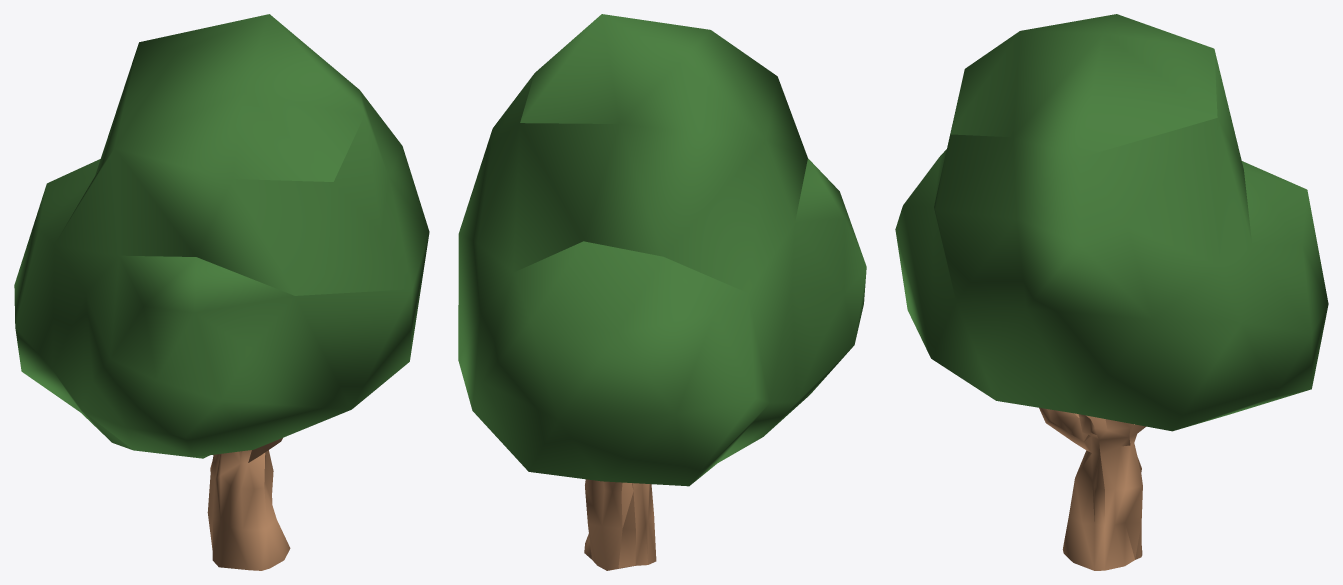
The model's file is oak1.fbx.
3 views of the same model, side by side, from view 1: azimuth 30°, elevation 25°; view 2: azimuth 150°, elevation 25°; view 3: azimuth 270°, elevation 25° (orthographic).
Parts seen in each view (by area): view 1: Canopy, Trunk; view 2: Canopy, Trunk; view 3: Canopy, Trunk.
Part boxes in pixels (x1,y1,x2,y2): Canopy: (14, 14, 429, 458); Trunk: (207, 438, 290, 570); Canopy: (458, 14, 866, 486); Trunk: (584, 479, 656, 570); Canopy: (895, 14, 1328, 431); Trunk: (1039, 407, 1145, 570).
Size of the model in its own units: 1.11 by 1.75 by 1.29.
